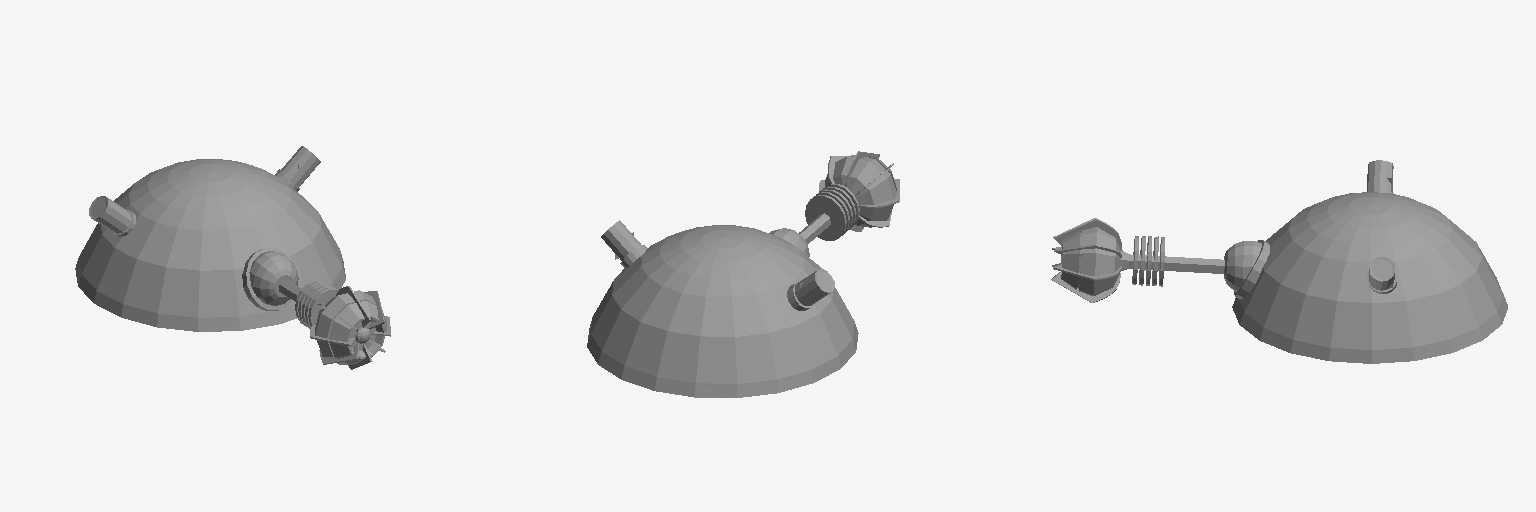
The model's file is Dalek_head.obj.
3 views of the same model, side by side, from view 1: azimuth 30°, elevation 25°; view 2: azimuth 150°, elevation 25°; view 3: azimuth 270°, elevation 25° (orthographic).
Visible parts, largest first — view 1: Dalek; view 2: Dalek; view 3: Dalek.
Part boxes in pixels (x1,y1,x2,y2): Dalek: (75,146,390,369); Dalek: (587,151,899,397); Dalek: (1051,160,1507,363).
Bounding box in the file's own units: 52.26 × 21.94 × 88.04.